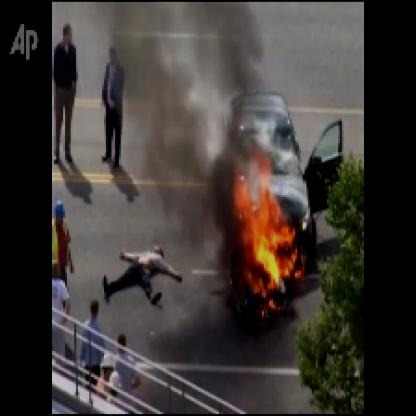Fire: (227, 147, 310, 321)
Smoke: (121, 2, 238, 262)
